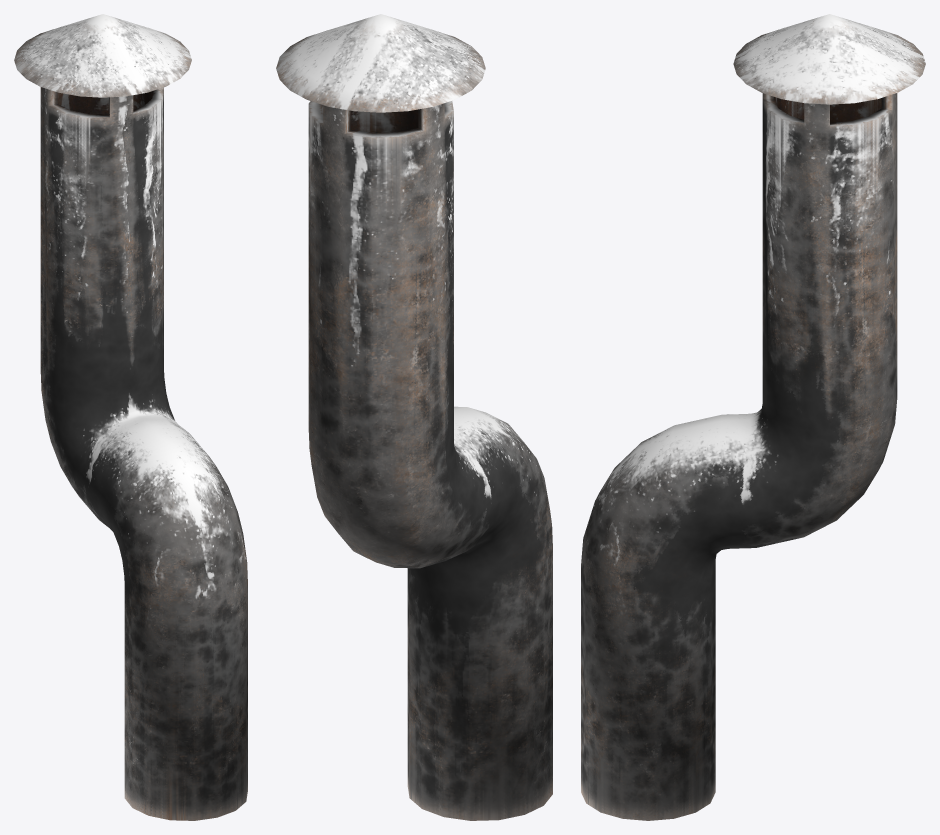
File: chimney01.fbx
3 renders of one model, left to right at view 1: azimuth 30°, elevation 25°; view 2: azimuth 150°, elevation 25°; view 3: azimuth 270°, elevation 25°, orthographic. The views are drawn at different scales.
Parts seen in each view (by area): view 1: Cylinder011; view 2: Cylinder011; view 3: Cylinder011.
Boxes of the visible parts, box(x1,y1,x2,y2) form: Cylinder011: box(14, 14, 247, 820); Cylinder011: box(276, 14, 552, 820); Cylinder011: box(581, 14, 925, 820).
Bounding box in the file's own units: 17.13 × 76.45 × 30.68.
